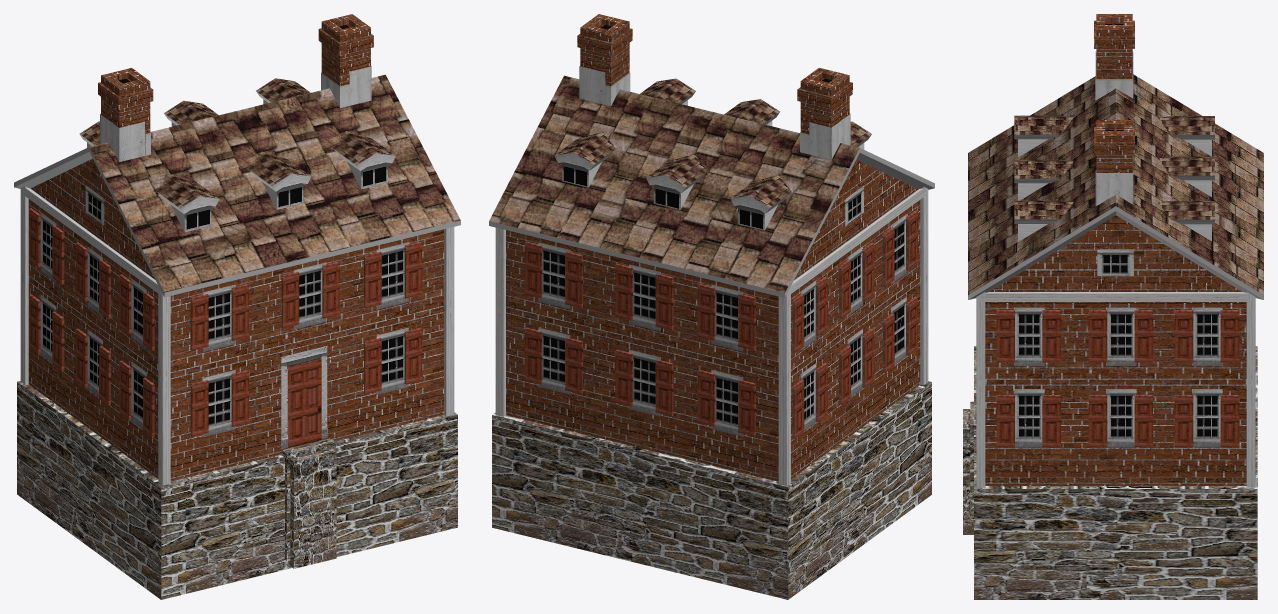
File: brit_house_4.dae
3 renders of one model, left to right at view 1: azimuth 30°, elevation 25°; view 2: azimuth 150°, elevation 25°; view 3: azimuth 270°, elevation 25°, orthographic.
Visible parts, largest first — view 1: BRITHouse4; view 2: BRITHouse4; view 3: BRITHouse4.
Part boxes in pixels (x1,y1,x2,y2): BRITHouse4: [14, 14, 460, 599]; BRITHouse4: [489, 14, 934, 599]; BRITHouse4: [963, 14, 1263, 599].
Bounding box in the file's own units: 16.21 × 14.46 × 24.04.
